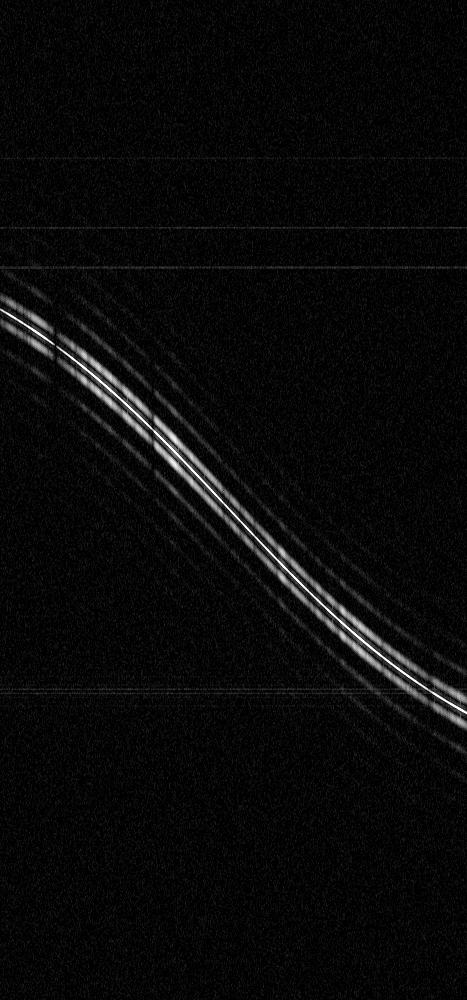signal: (0, 0, 466, 999)
